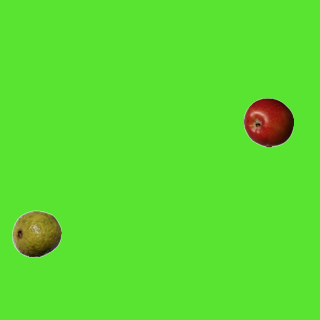Apple Braeburn: (243, 97, 293, 147)
Guava: (11, 208, 61, 258)
